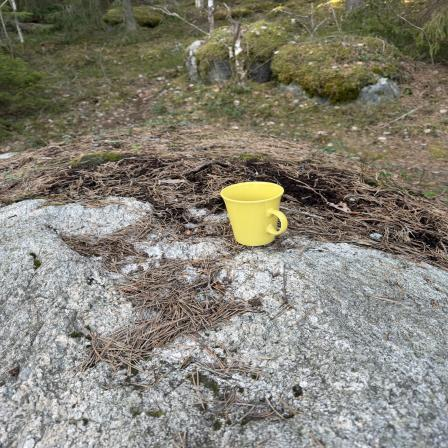yellow_cup: (220, 180, 288, 248)
